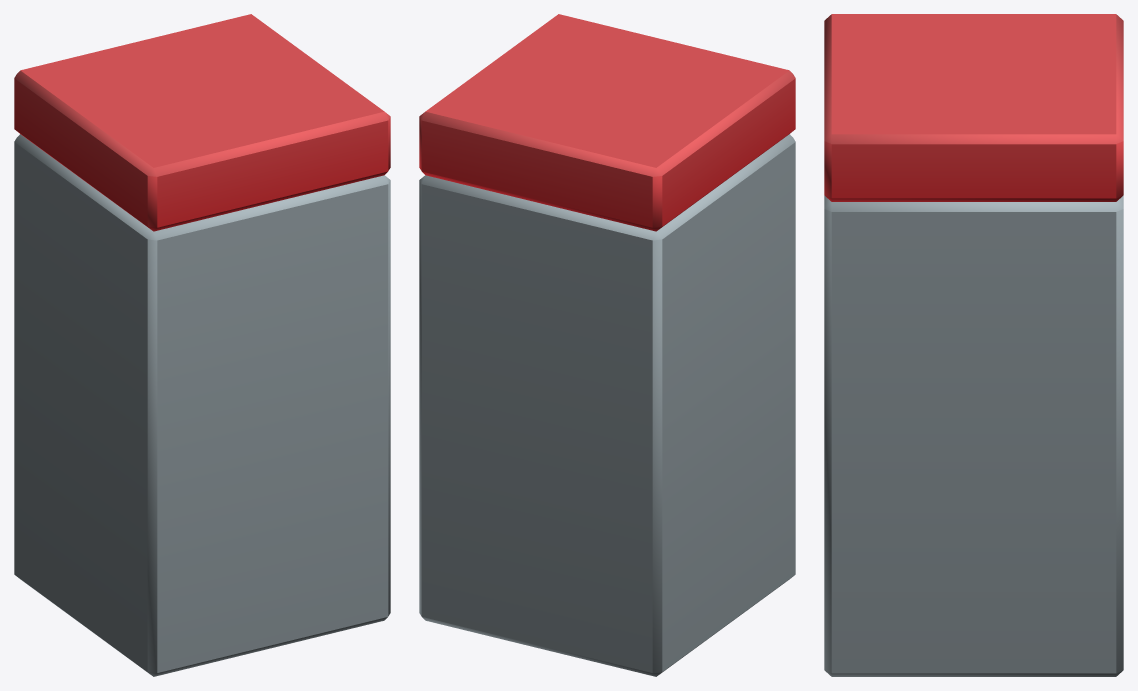
File: platform_2x2x4_red.glb
The picture shows the model from 3 angles, left to right: view 1: azimuth 30°, elevation 25°; view 2: azimuth 150°, elevation 25°; view 3: azimuth 270°, elevation 25°; orthographic projection. The views are drawn at different scales.
Visible parts, largest first — view 1: platform_2x2x4_red; view 2: platform_2x2x4_red; view 3: platform_2x2x4_red.
Part boxes in pixels (left/top/right/bottom): platform_2x2x4_red: left=14, top=14, right=390, bottom=676; platform_2x2x4_red: left=419, top=14, right=795, bottom=676; platform_2x2x4_red: left=824, top=14, right=1123, bottom=676.
Bounding box in the file's own units: 2 × 4 × 2.
1 material, 1 textured.
